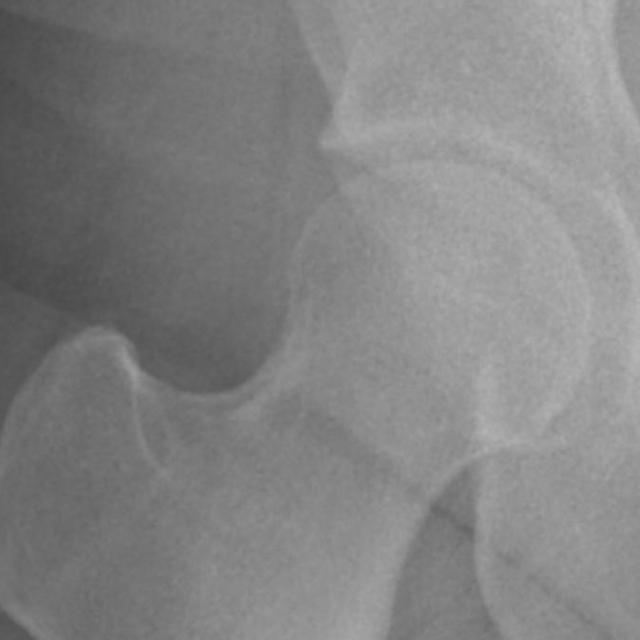Fitted_femural_head: (316, 159, 432, 316)
